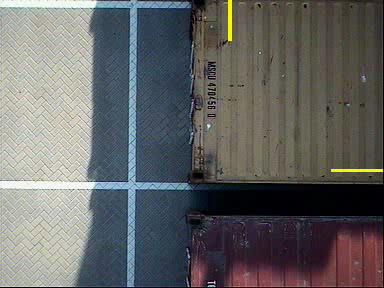groundmarker_2: (140, 155, 198, 193)
